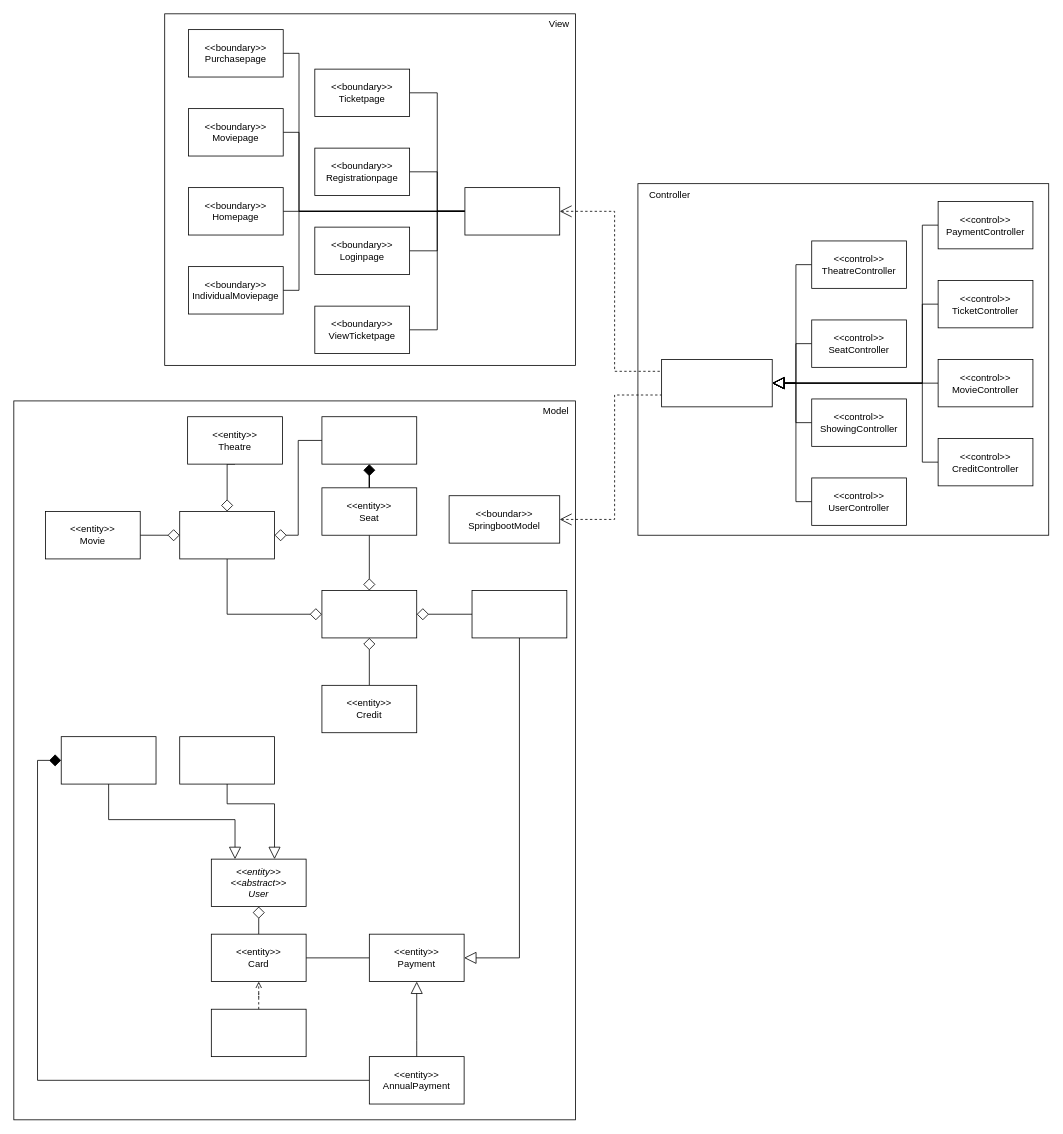
Image size: 1063x1134. Some labels were removed from this diagram. The shapes that lost their labels are listed below. From the top down, each one's centre as x and y in pixels, then its label:
At (x=512, y=211): "<<boundary>> Javascript Fetch".
At (x=716, y=383): "<<boundar>> SpringbootController".
At (x=369, y=440): "<<entity>> Showtime".
At (x=227, y=535): "<<entity>> Showing".
At (x=369, y=614): "<<entity>> Ticket".
At (x=519, y=614): "<<entity>> TicketPayment".
At (x=108, y=760): "<<entity>> RegisteredUser".
At (x=227, y=760): "<<entity>> GuestUser".
At (x=258, y=1032): "<<control>> CardController".
